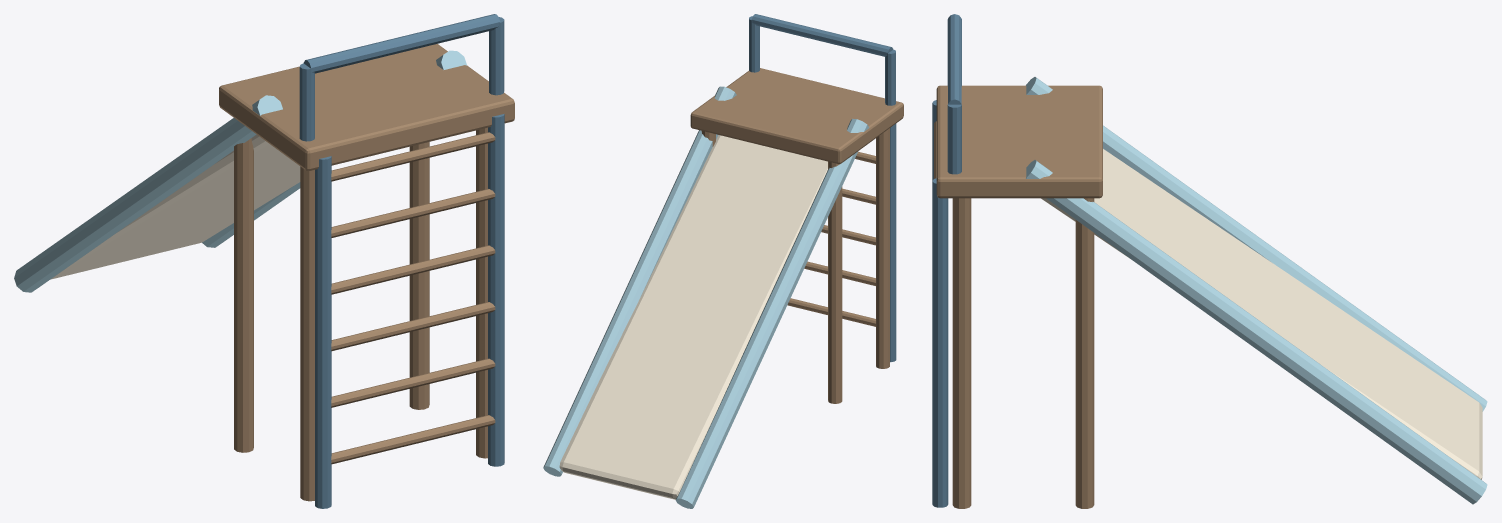
The model's file is park-slide.glb.
3 renders of one model, left to right at view 1: azimuth 30°, elevation 25°; view 2: azimuth 150°, elevation 25°; view 3: azimuth 270°, elevation 25°, orthographic. The views are drawn at different scales.
Parts seen in each view (by area): view 1: top platform; view 2: top platform; view 3: top platform.
Part boxes in pixels (x1,y1,x2,y2): top platform: (14,14,514,508); top platform: (543,14,903,508); top platform: (932,14,1487,508).
Bounding box in the file's own units: 1.55 × 3.12 × 3.84.
